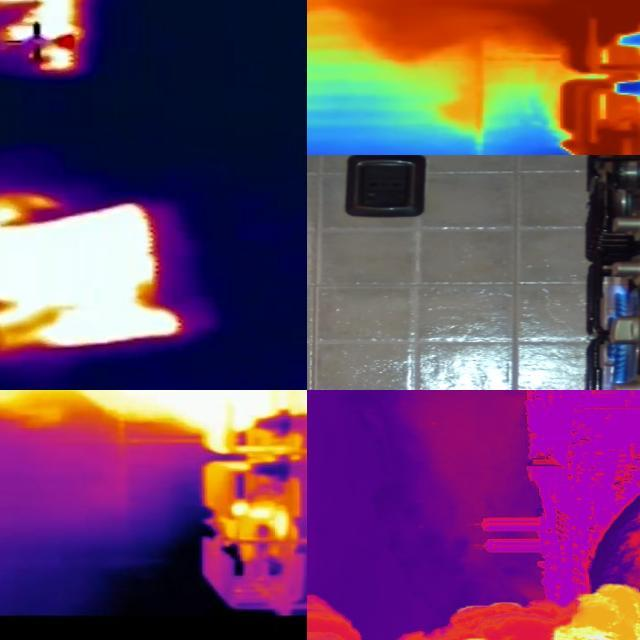fire: (1, 192, 185, 356), (166, 391, 298, 455), (491, 1, 640, 56), (1, 1, 92, 76), (549, 579, 640, 640)
